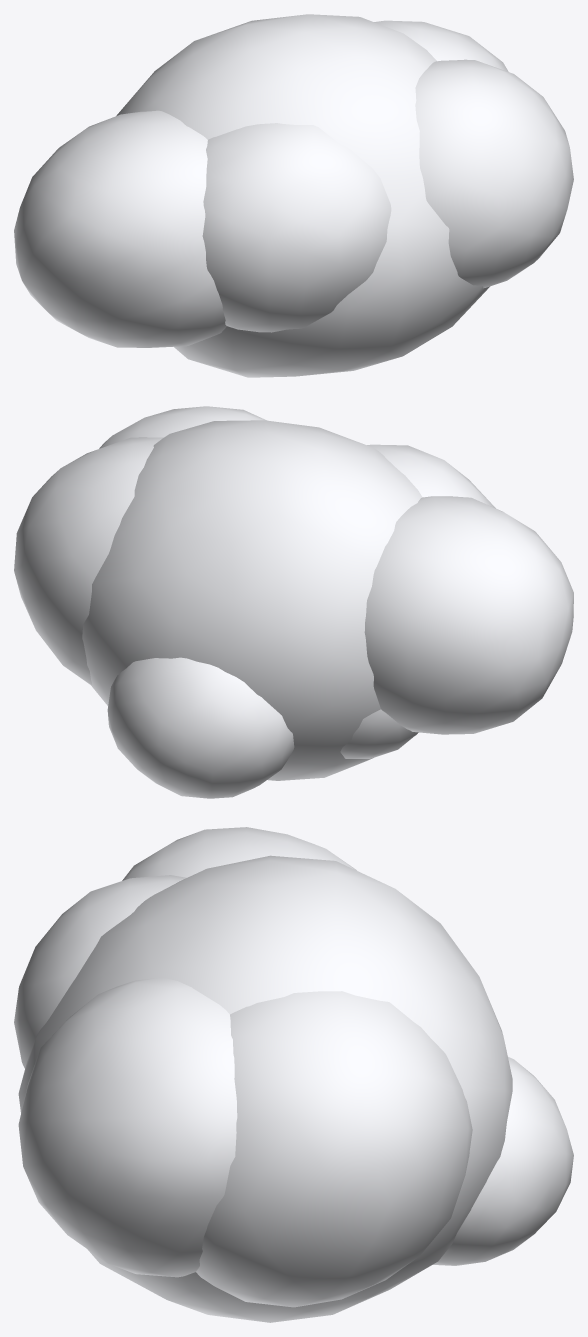
File: Cloud4.obj
3 renders of one model, top to bottom at view 1: azimuth 30°, elevation 25°; view 2: azimuth 150°, elevation 25°; view 3: azimuth 270°, elevation 25°, orthographic. The views are drawn at different scales.
Visible parts, largest first — view 1: Cloud4; view 2: Cloud4; view 3: Cloud4.
Part boxes in pixels (x1=…): Cloud4: x1=14, y1=14, x2=573, y2=377; Cloud4: x1=14, y1=406, x2=573, y2=798; Cloud4: x1=14, y1=827, x2=573, y2=1322.
Size of the model in its own units: 1.84 by 1.07 by 1.41.
1 material, 1 textured.
